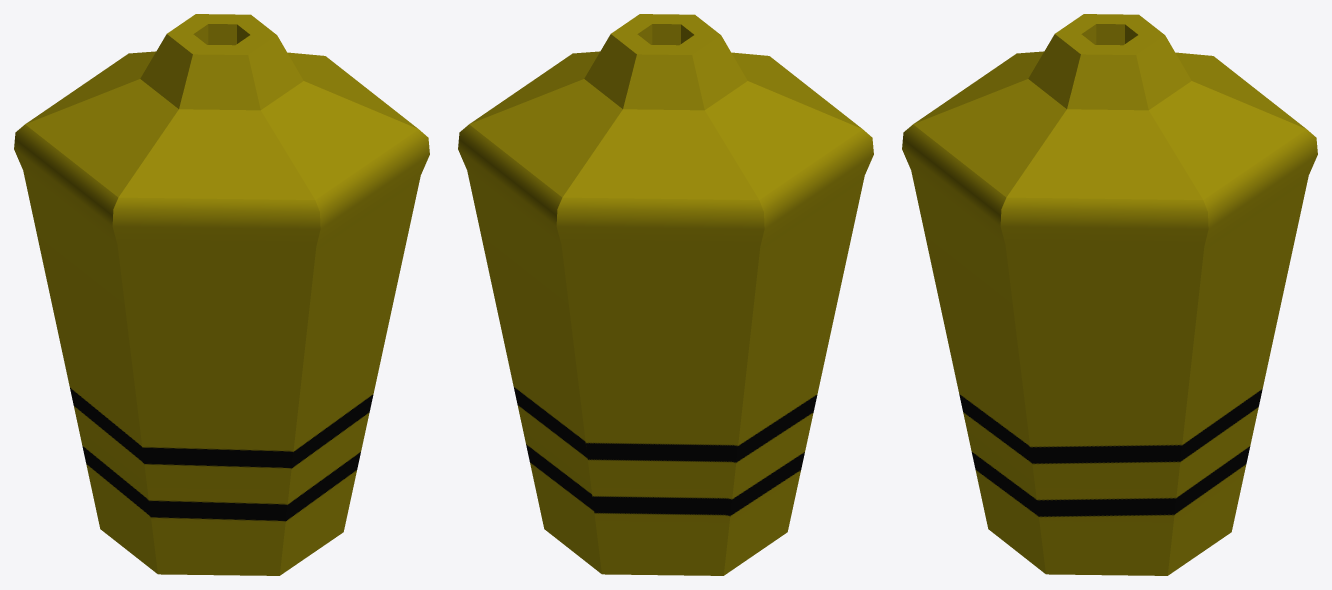
Rendered from Gourd_Textured.fbx.
The picture shows the model from 3 angles, left to right: view 1: azimuth 30°, elevation 25°; view 2: azimuth 150°, elevation 25°; view 3: azimuth 270°, elevation 25°; orthographic projection.
Parts seen in each view (by area): view 1: TallGourd; view 2: TallGourd; view 3: TallGourd.
Boxes of the visible parts, x1,y1,x2,y2 form: TallGourd: (14, 14, 429, 575); TallGourd: (458, 14, 873, 575); TallGourd: (902, 14, 1317, 575).
Size of the model in its own units: 1.47 by 2.2 by 1.67.
